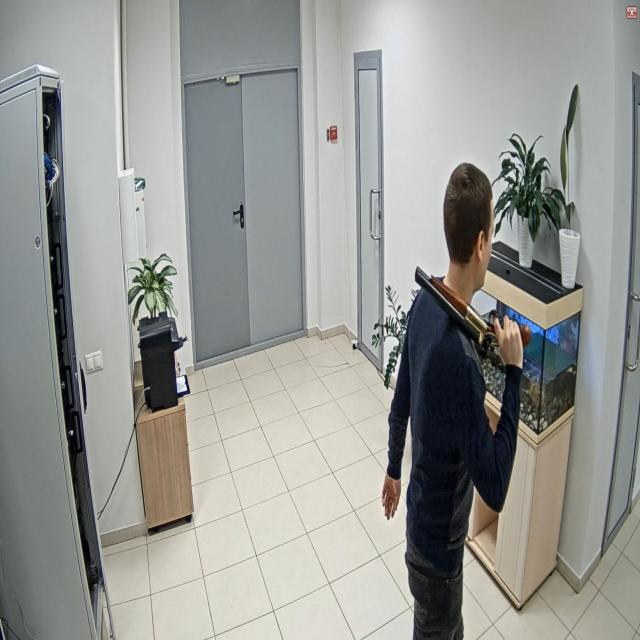-Gun: (415, 266, 531, 368)
